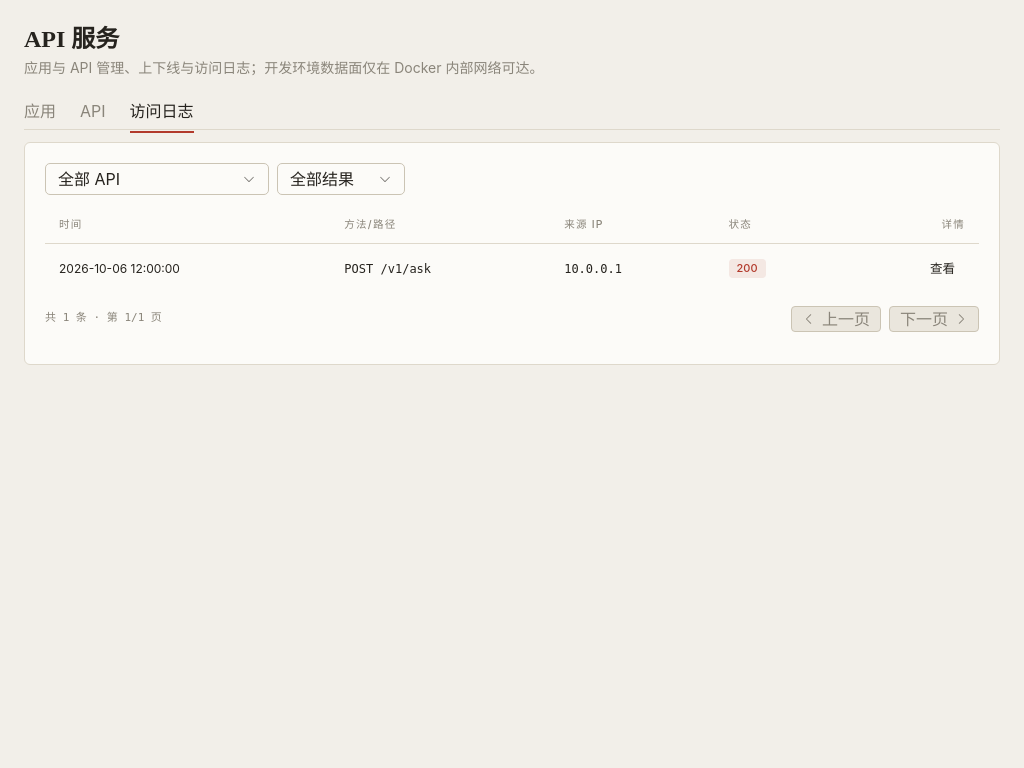
Test: 访问日志页签 › 详情弹窗读取详情接口并展示请求/响应正文
What coordinates should you click on to do the following:
click the button "查看"
I would click on:
 (942, 268)
Its box is 920,256 -> 965,282.
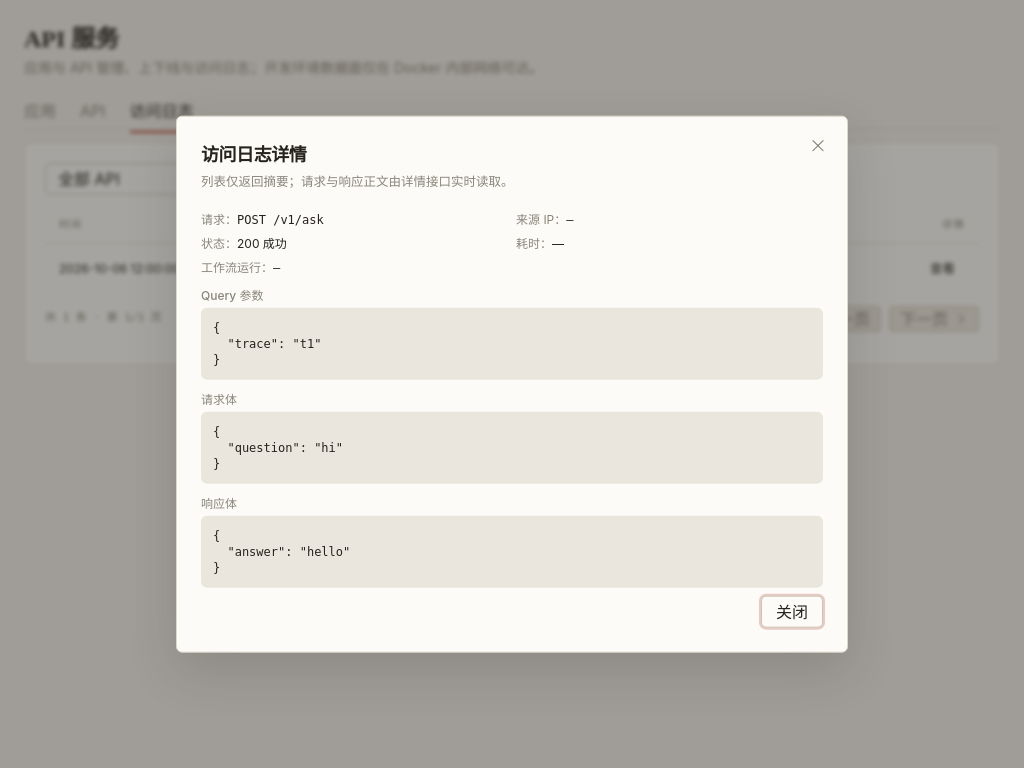
Now the text "请求体" is shown, box 201,391 -> 237,406
Now the text "{ \"question\": \"hi\" }" is shown, box 201,411 -> 823,483
Now the text "{ \"answer\": \"hello\" }" is shown, box 201,515 -> 823,587
